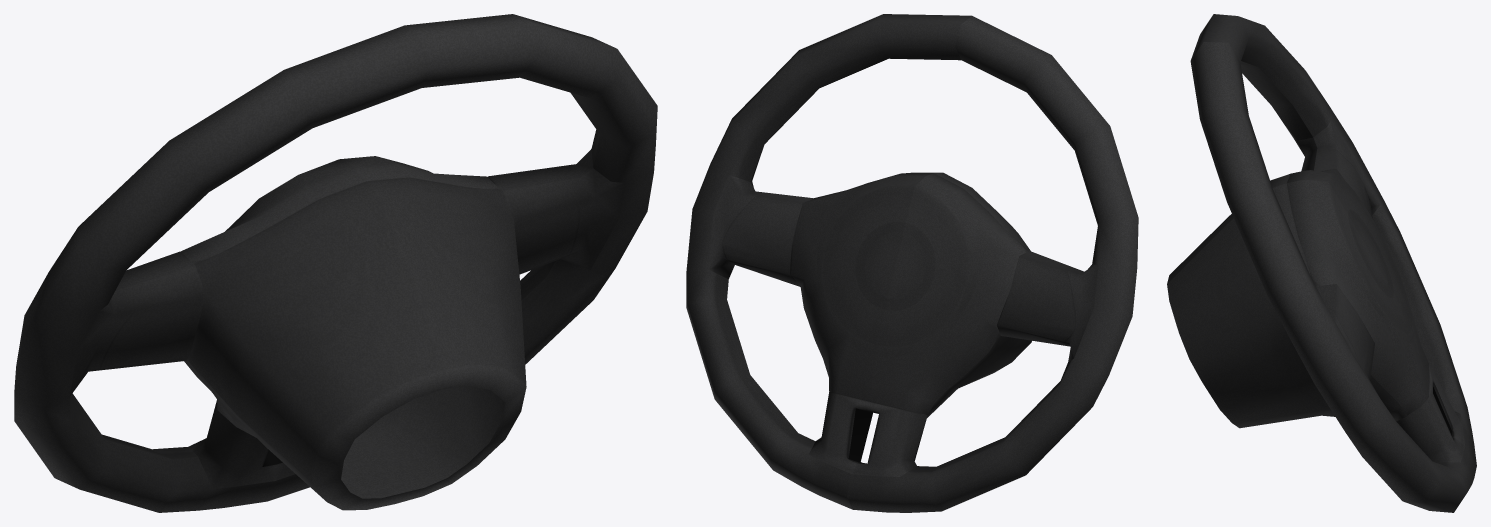
The model's file is Steering_wheel_jetta.fbx.
3 views of the same model, side by side, from view 1: azimuth 30°, elevation 25°; view 2: azimuth 150°, elevation 25°; view 3: azimuth 270°, elevation 25° (orthographic). The views are drawn at different scales.
Visible parts, largest first — view 1: Steering_wheel_obj, Horn; view 2: Steering_wheel_obj, Horn; view 3: Steering_wheel_obj, Horn.
Boxes of the visible parts, x1,y1,x2,y2 form: Steering_wheel_obj: (14, 14, 657, 512); Horn: (181, 156, 500, 265); Steering_wheel_obj: (686, 14, 1138, 512); Horn: (791, 173, 1028, 414); Steering_wheel_obj: (1167, 14, 1476, 512); Horn: (1286, 169, 1429, 415).
Bounding box in the file's own units: 41.76 × 36.87 × 23.37.
